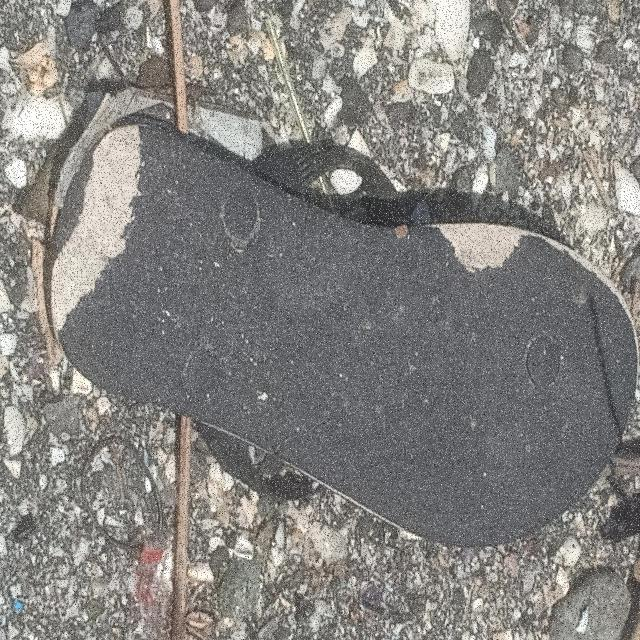rubber_waste: (49, 120, 640, 553)
